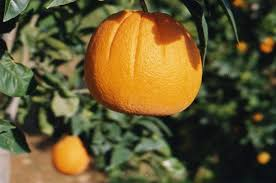orange: (85, 9, 205, 118), (48, 131, 92, 175)
